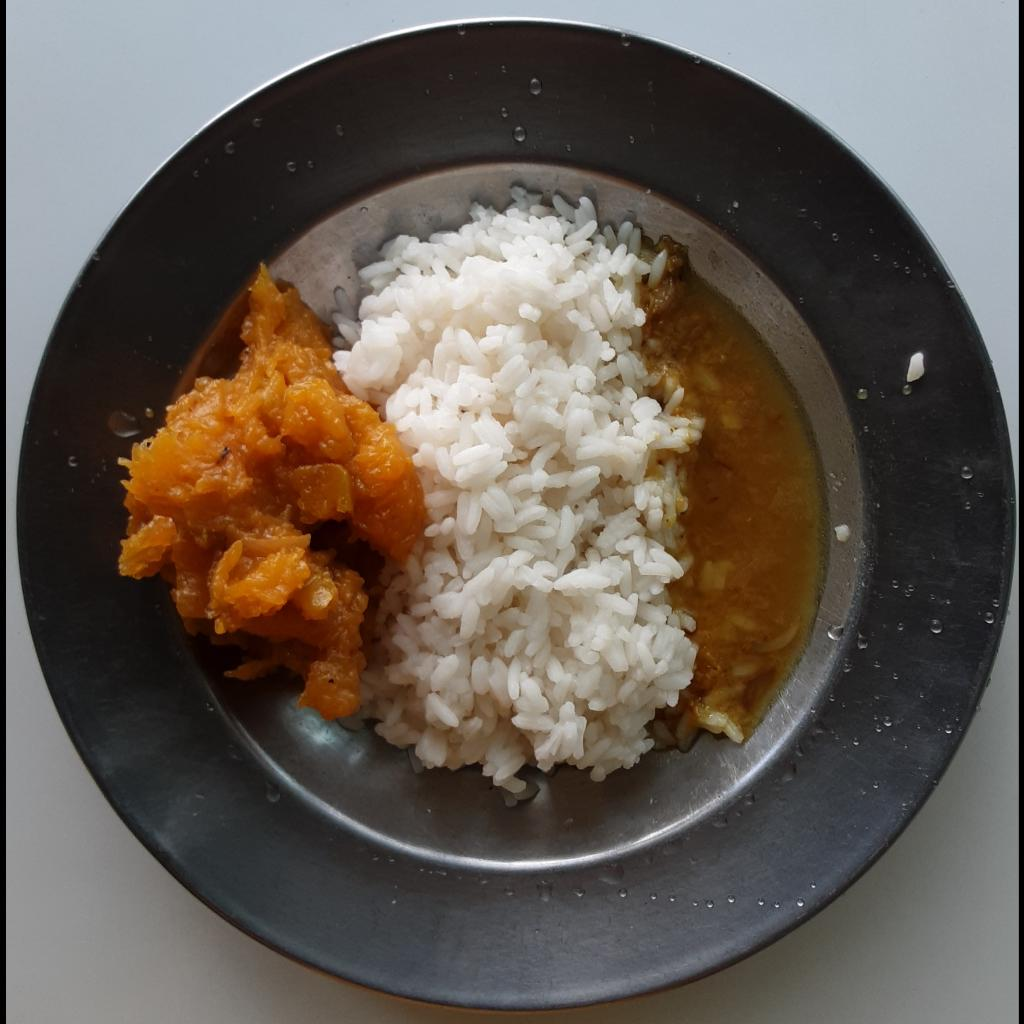daal: (647, 239, 825, 729)
kumra-vaji: (114, 264, 428, 716)
rice: (333, 184, 738, 800)
